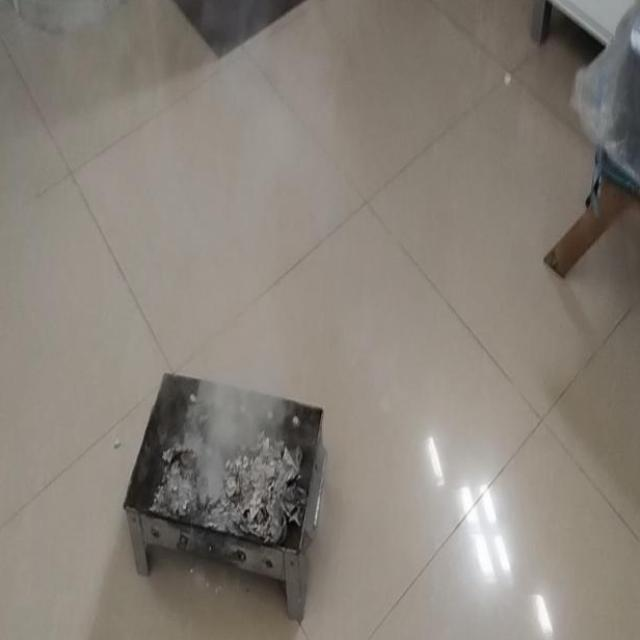fire: (186, 344, 287, 454)
